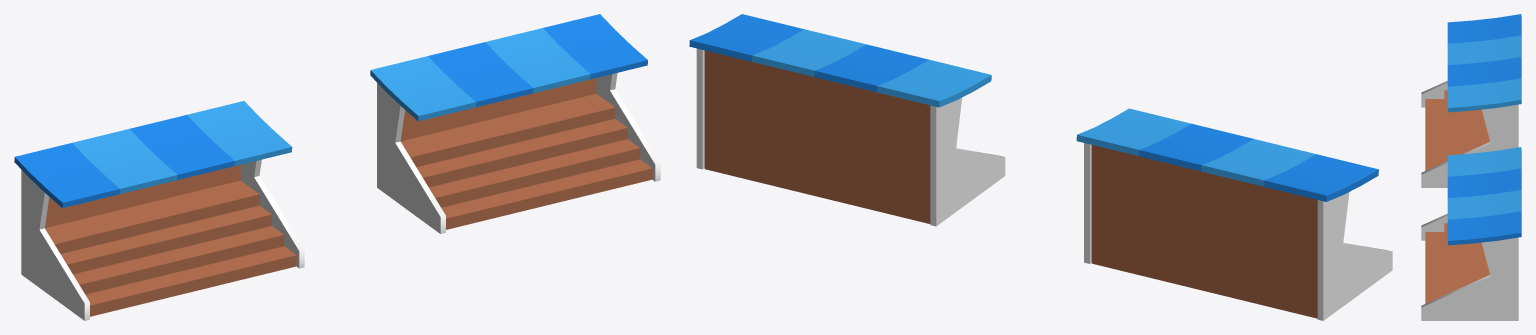
The model's file is Tribune_01.fbx.
3 renders of one model, left to right at view 1: azimuth 30°, elevation 25°; view 2: azimuth 150°, elevation 25°; view 3: azimuth 270°, elevation 25°, orthographic. The views are drawn at different scales.
Visible parts, largest first — view 1: Tribune_01; view 2: Tribune_01; view 3: Tribune_01.
Boxes of the visible parts, bbox=[...] form: Tribune_01: bbox=[14, 14, 660, 320]; Tribune_01: bbox=[689, 14, 1392, 320]; Tribune_01: bbox=[1421, 14, 1521, 320].
Size of the model in its own units: 24.58 by 4.75 by 4.77.
